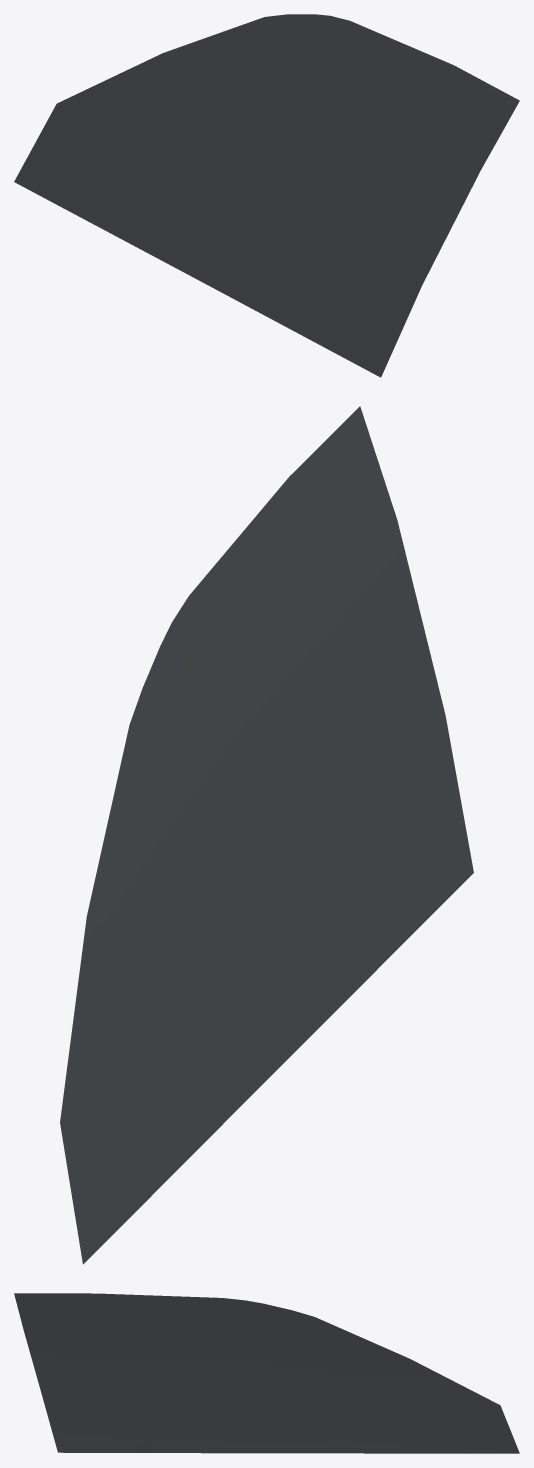
Rendered from tozzo98_glass_driver_ucb_lights_and_glass_transperent_0.005_lev.glb.
3 renders of one model, top to bottom at view 1: azimuth 30°, elevation 25°; view 2: azimuth 150°, elevation 25°; view 3: azimuth 270°, elevation 25°, orthographic. The views are drawn at different scales.
Visible parts, largest first — view 1: tozzo98_glass_driver_ucb_lights_and_glass_transperent_0.005_; view 2: tozzo98_glass_driver_ucb_lights_and_glass_transperent_0.005_; view 3: tozzo98_glass_driver_ucb_lights_and_glass_transperent_0.005_.
Boxes of the visible parts, box(x1,y1,x2,y2) form: tozzo98_glass_driver_ucb_lights_and_glass_transperent_0.005_: box(14, 14, 519, 377); tozzo98_glass_driver_ucb_lights_and_glass_transperent_0.005_: box(60, 406, 473, 1264); tozzo98_glass_driver_ucb_lights_and_glass_transperent_0.005_: box(14, 1293, 519, 1453).
Bounding box in the file's own units: 0.2132 × 0.3852 × 0.8165.
1 material, 1 textured.
